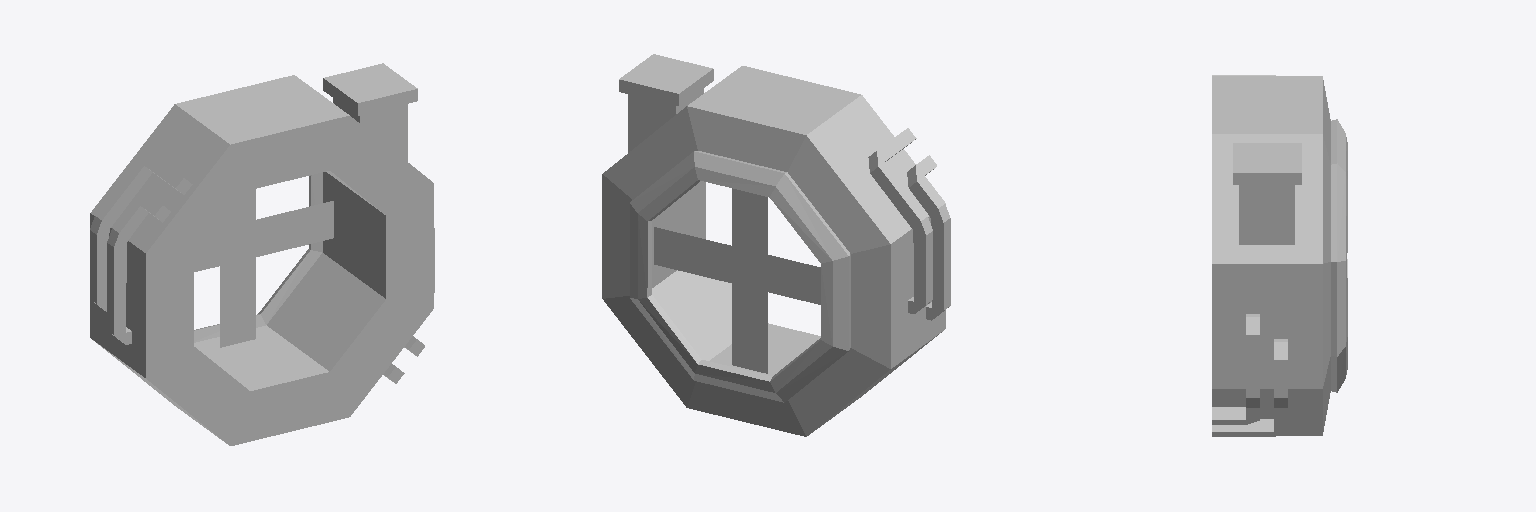
File: steam_turbine_end.obj
The picture shows the model from 3 angles: view 1: azimuth 30°, elevation 25°; view 2: azimuth 150°, elevation 25°; view 3: azimuth 270°, elevation 25°; orthographic projection.
Parts seen in each view (by area): view 1: fan_attachment; view 2: fan_attachment; view 3: fan_attachment.
Boxes of the visible parts, box(x1,y1,x2,y2) form: fan_attachment: box(90, 63, 434, 445); fan_attachment: box(602, 54, 950, 436); fan_attachment: box(1212, 75, 1347, 436).
Size of the model in its own units: 3.38 by 3 by 1.23.